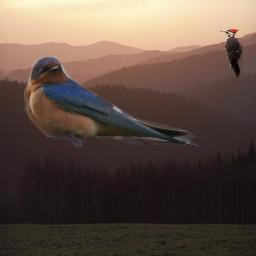Swallow: (24, 56, 207, 150)
Woodpecker: (218, 29, 244, 78)
